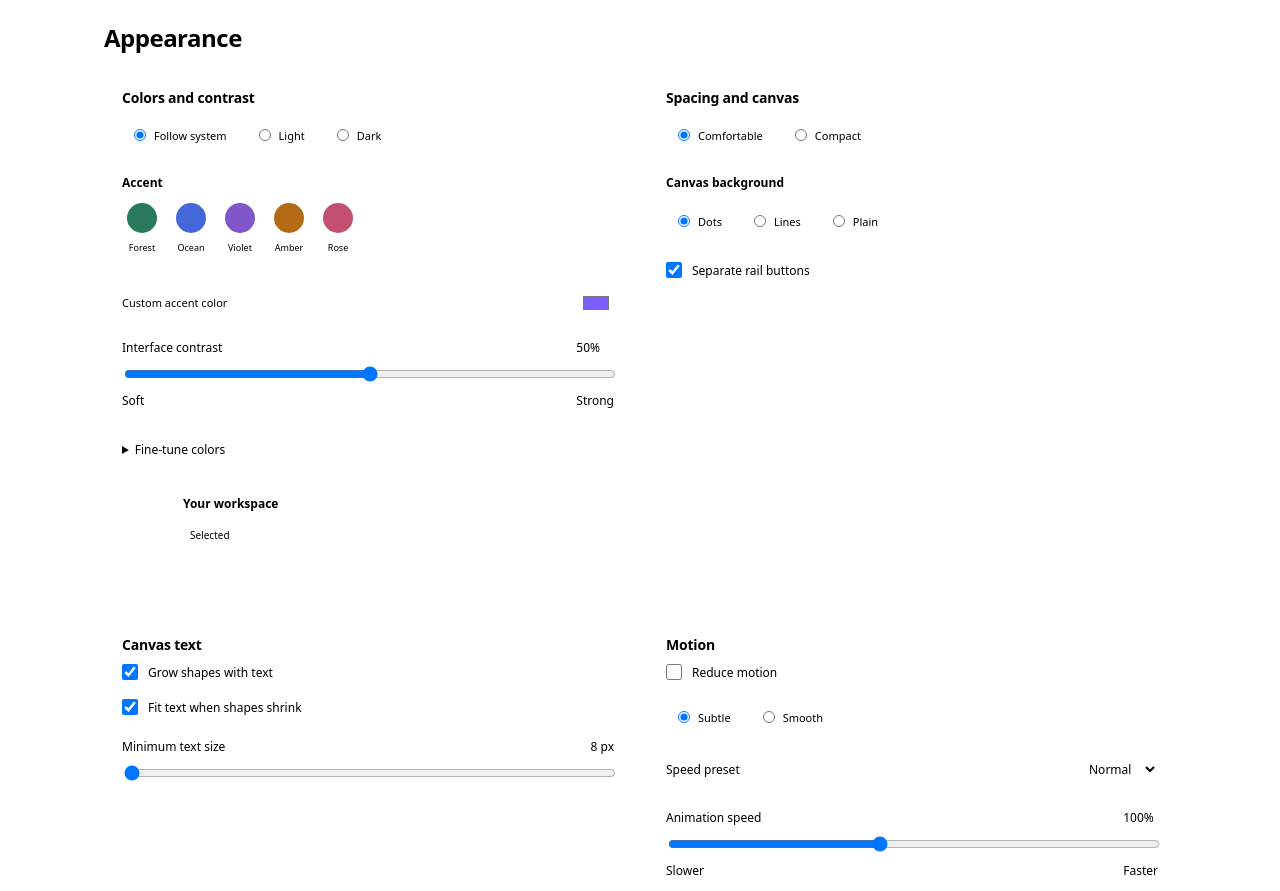
Test case: appearance controls › customizes speed, effect, easing and button separation without discarding them while motion is reduced
Set the slider labelled "Animation speed" to "150" at (1016, 844), box [668,836,1160,852]
(page scrolled)
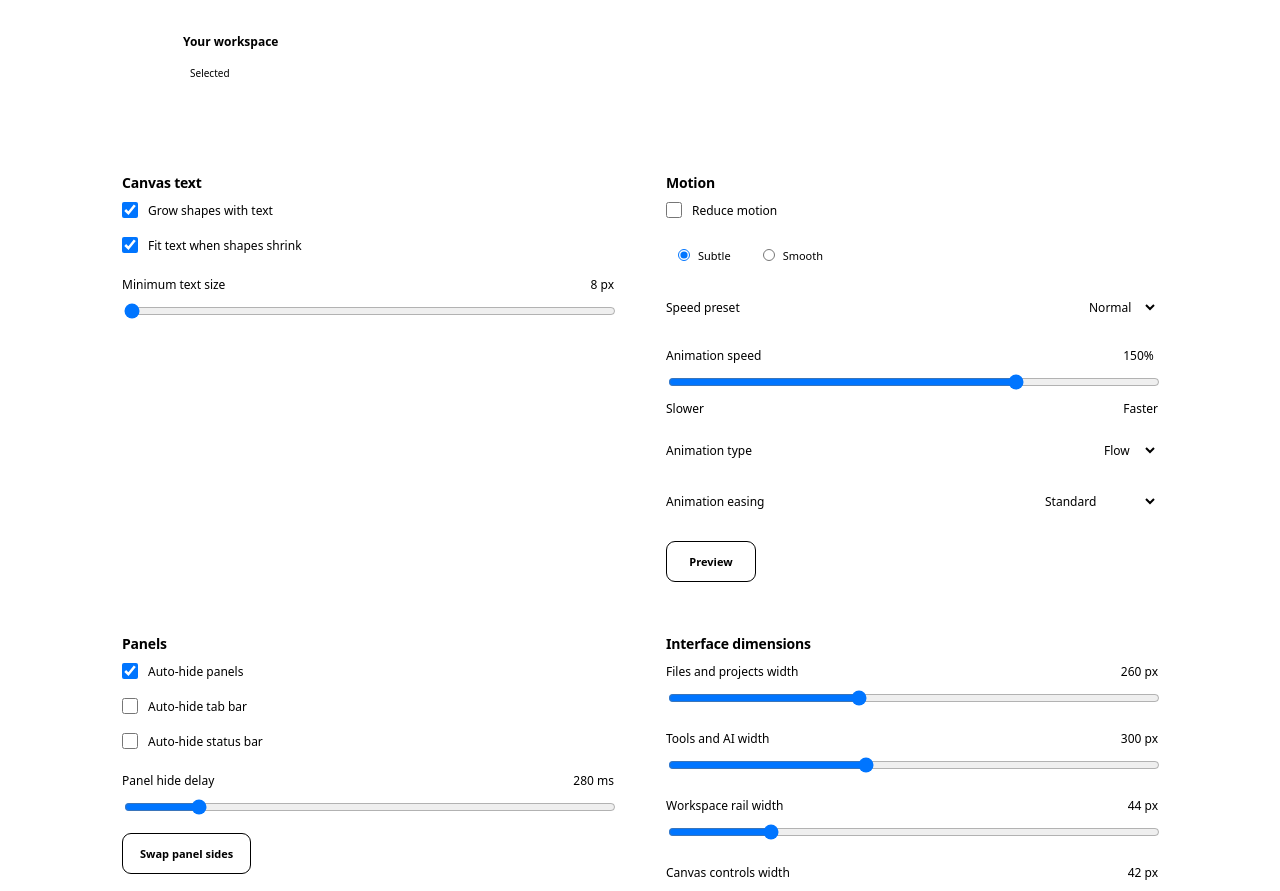
Select "Pop" in the dropdown labelled "Animation type" at (1124, 450), box [1090,433,1158,468]
Select "Linear" in the dropdown labelled "Animation easing" at (1094, 501), box [1031,484,1158,519]
(page scrolled)
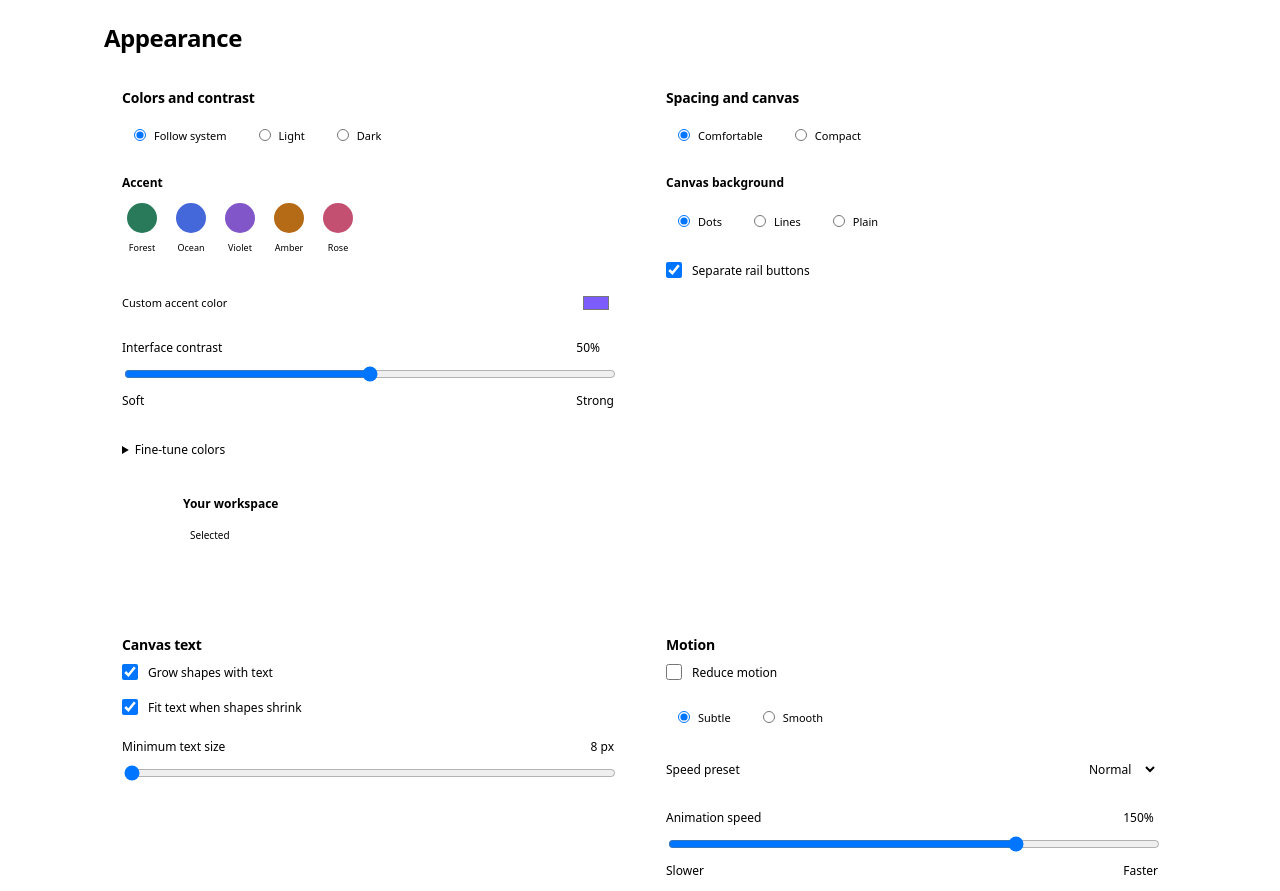
Click the checkbox labelled "Separate rail buttons" at (674, 270), box [666,262,682,278]
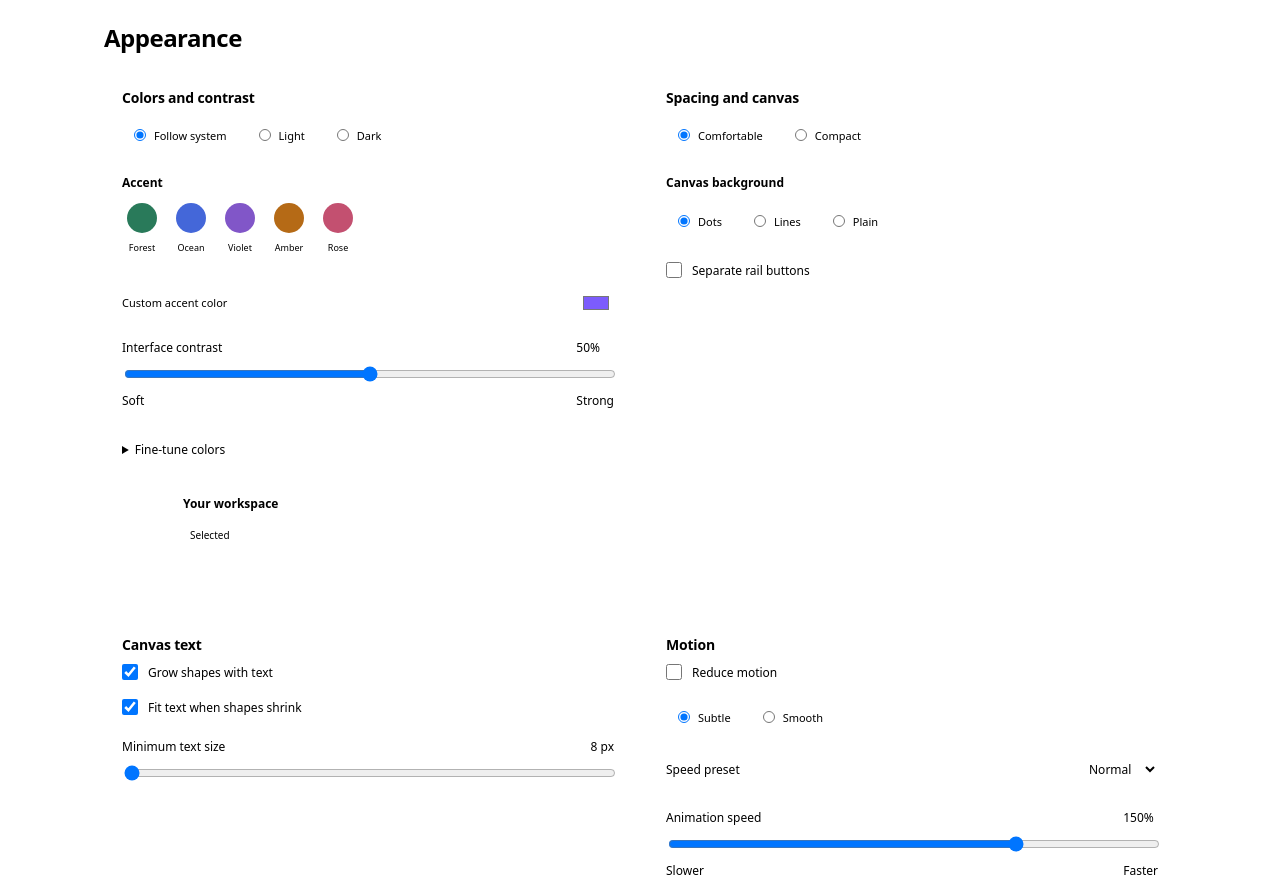
expect the text "150%" is shown: met, box [1123,809,1158,826]
Click the checkbox labelled "Reduce motion" at (674, 672), box [666,664,682,680]
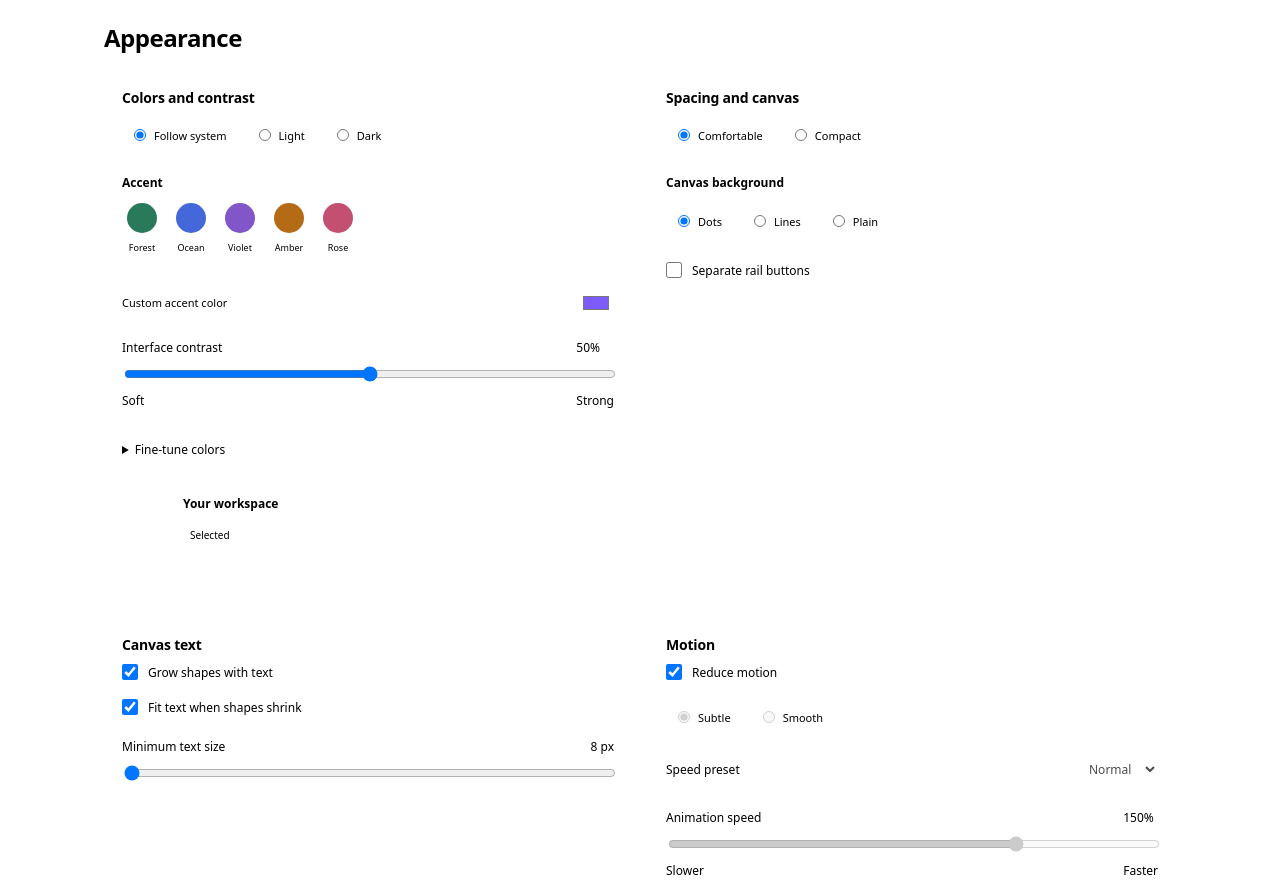
expect the slider labelled "Animation speed" is disabled: met, box [668,836,1160,852]
Click the checkbox labelled "Reduce motion" at (674, 672), box [666,664,682,680]
(page scrolled)
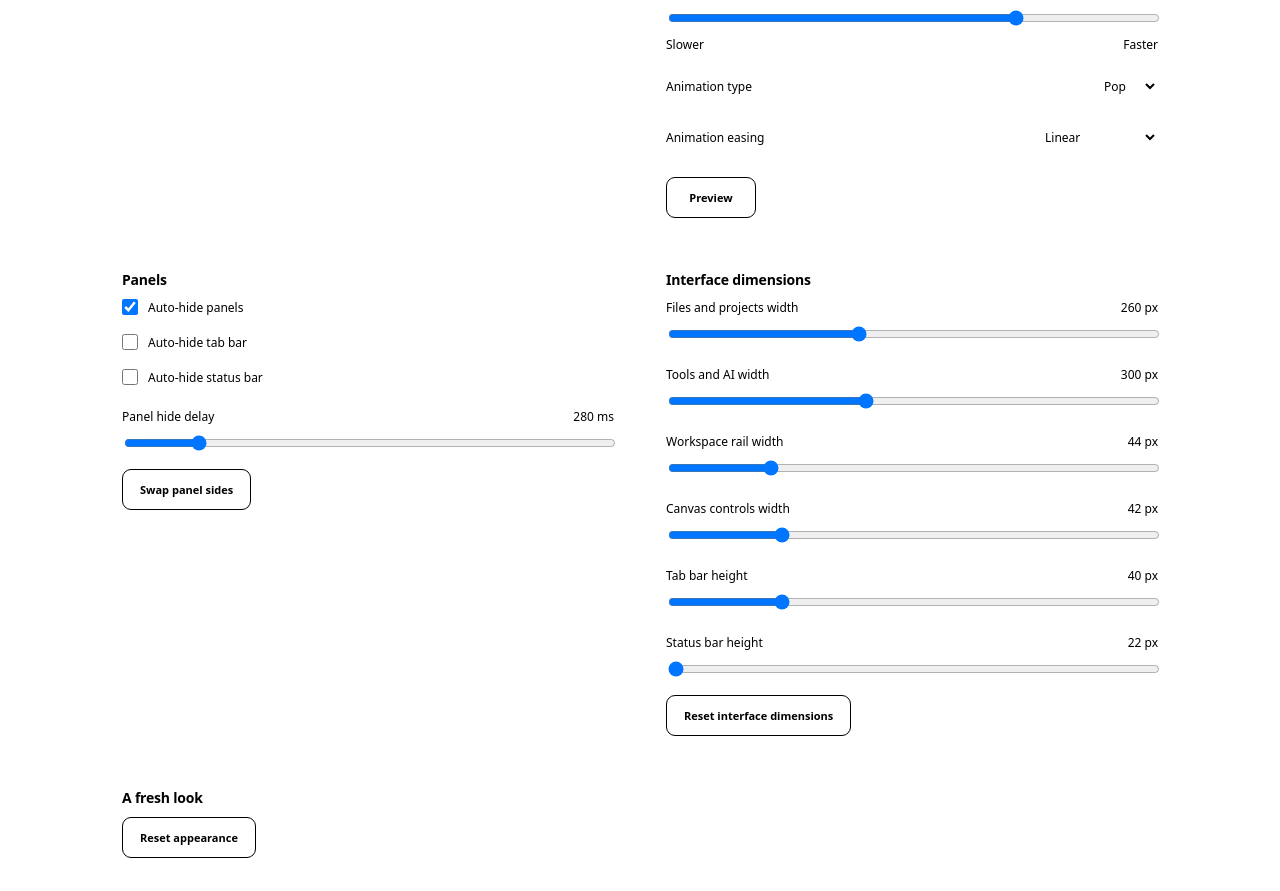
Click the button "Reset appearance" at (189, 837), box [122,817,256,858]
(page scrolled)
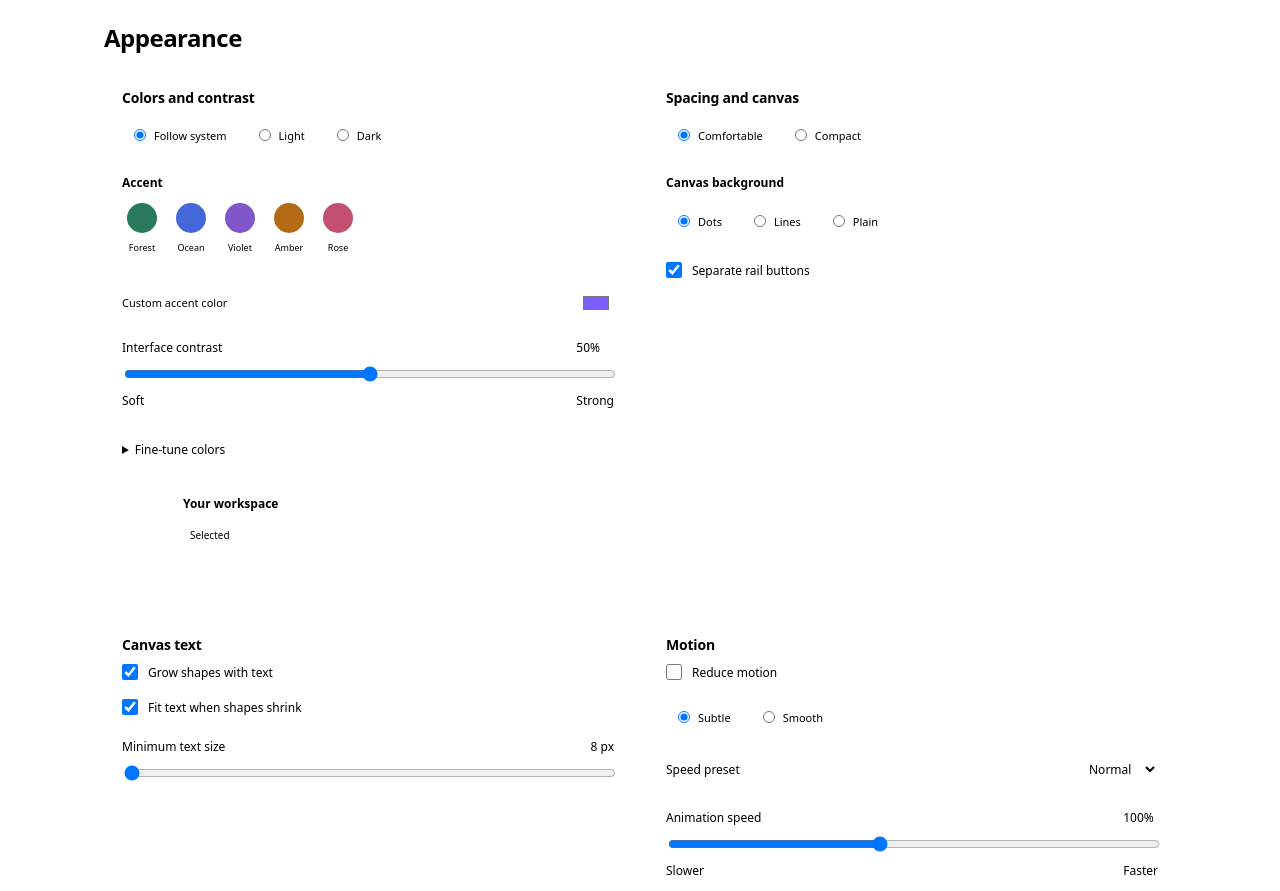
expect the checkbox labelled "Separate rail buttons" is checked: met, box [666,262,682,278]
expect the slider labelled "Animation speed" holds "100": met, box [668,836,1160,852]
